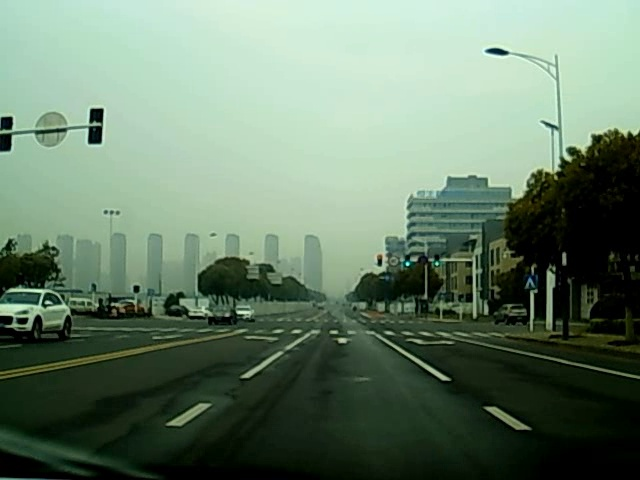Traffic_Light_go: (433, 253, 440, 268), (404, 255, 410, 271)
Traffic_Light_stop: (376, 253, 383, 267)
